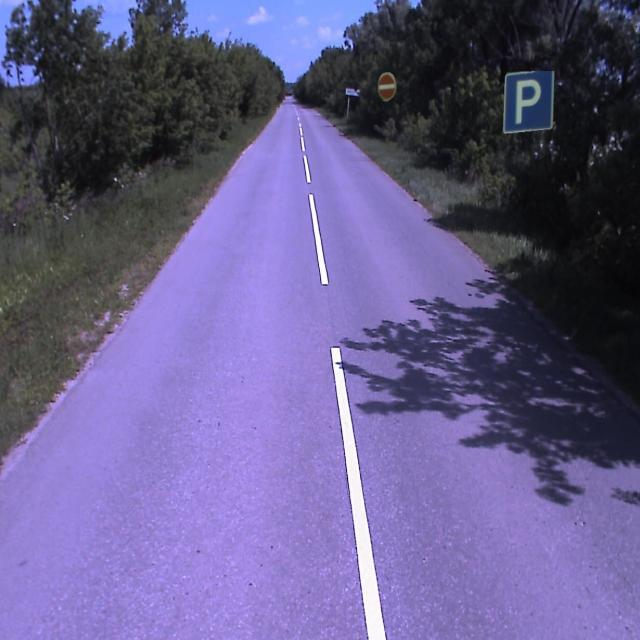road: (0, 98, 639, 639)
